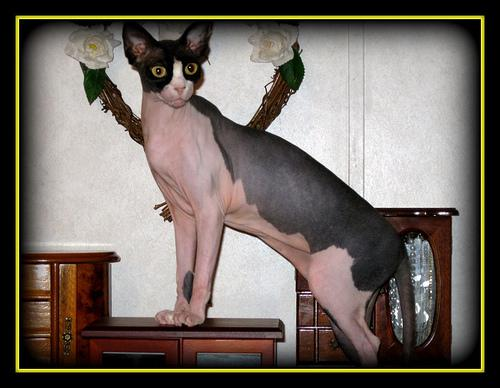cat-Sphynx: (120, 18, 212, 106)
